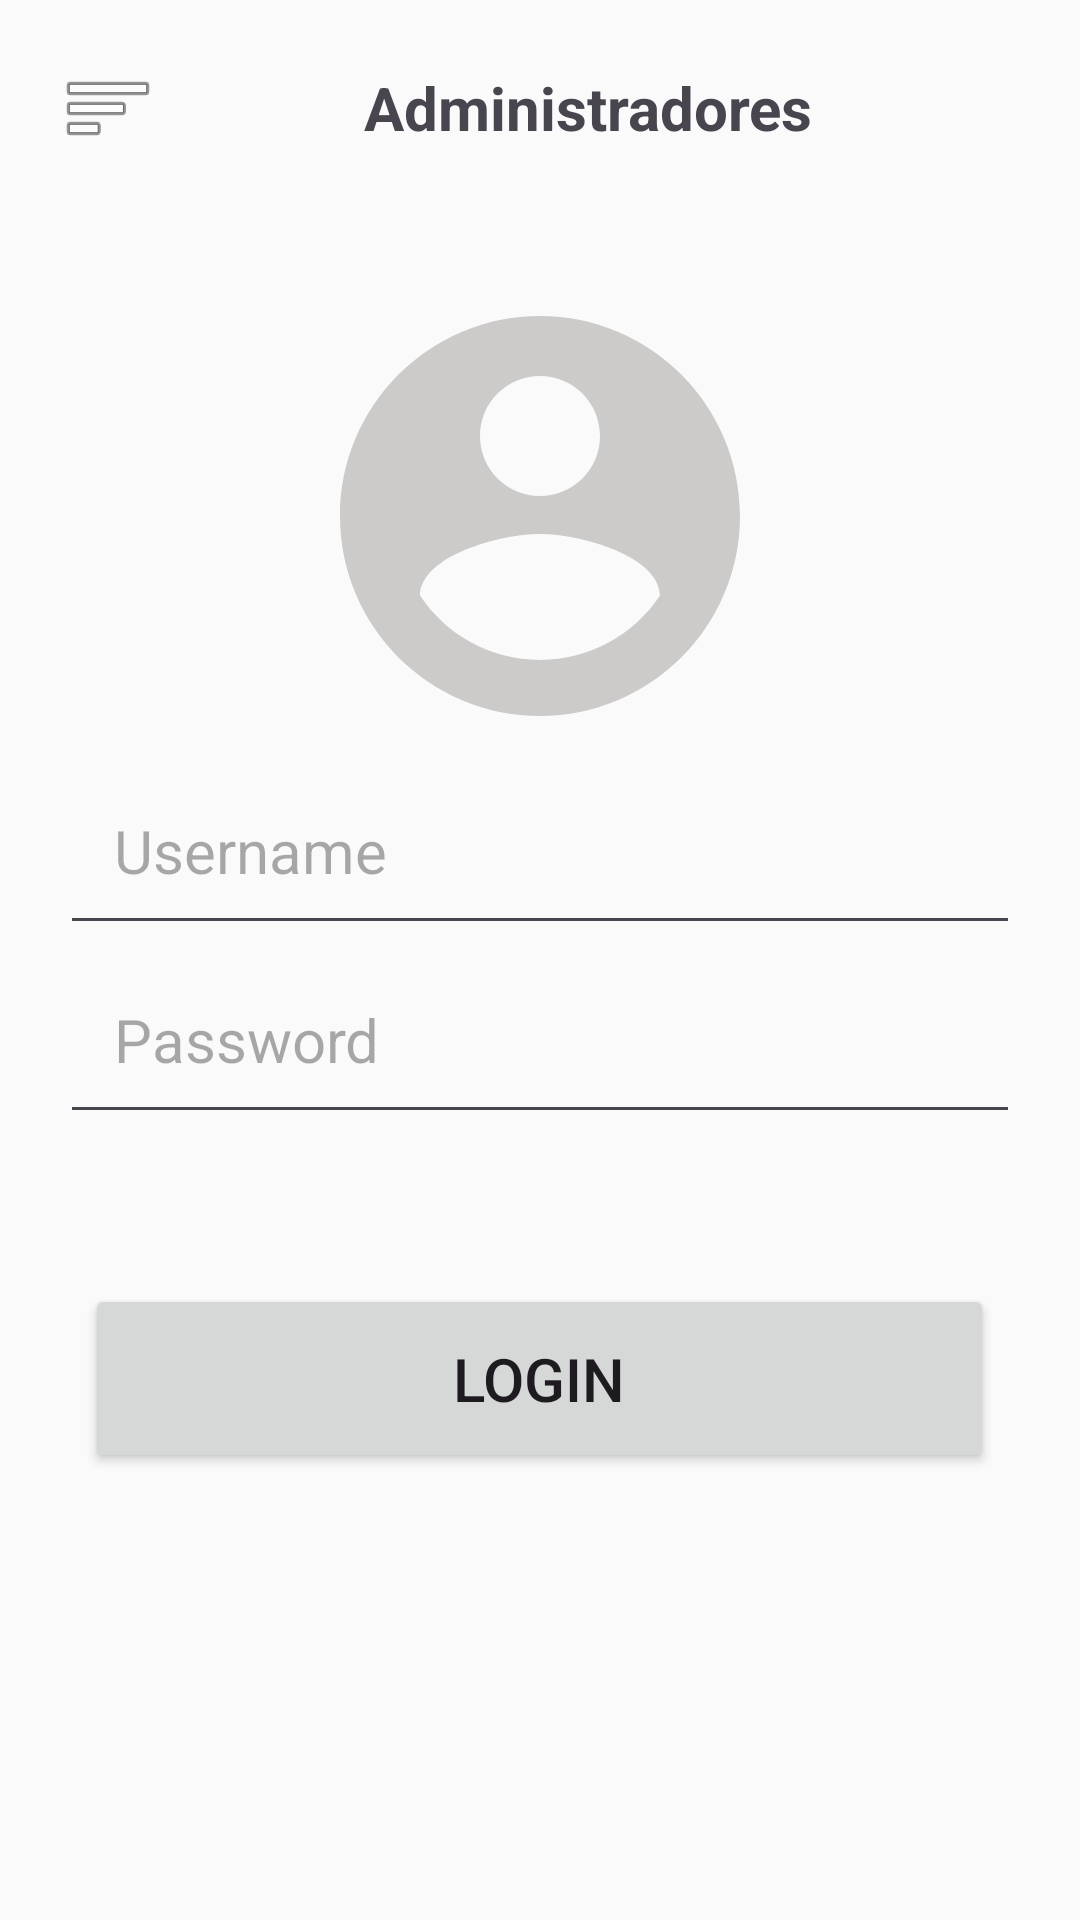

Screen size 1080 x 1920. Icon name, then its box in pixels as [x1, y1, x2, y2]:
sort by size: [67, 82, 149, 135]
